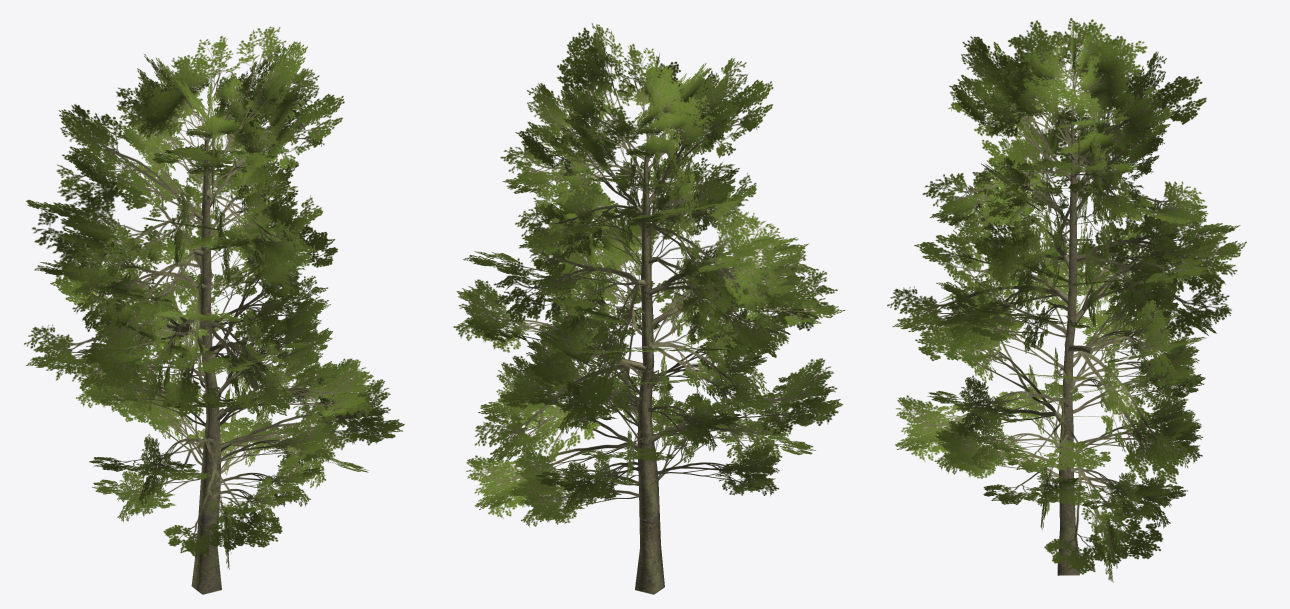
Rendered from Hasel.glb.
3 views of the same model, side by side, from view 1: azimuth 30°, elevation 25°; view 2: azimuth 150°, elevation 25°; view 3: azimuth 270°, elevation 25° (orthographic).
Parts seen in each view (by area): view 1: mesh; view 2: mesh; view 3: mesh.
Boxes of the visible parts, x1,y1,x2,y2 form: mesh: (24, 26, 404, 594); mesh: (453, 23, 845, 594); mesh: (887, 18, 1246, 582).
Size of the model in its own units: 13.15 by 20.32 by 12.86.
Materials: 1 (1 with a texture image).
